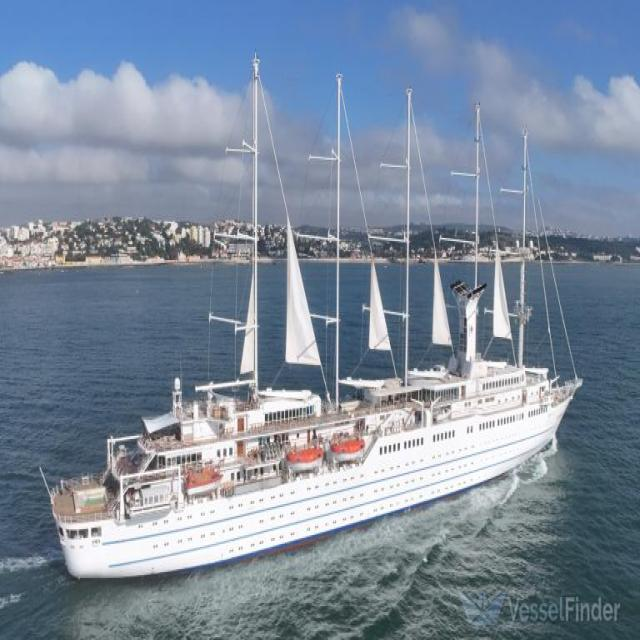PassengerShip: (27, 222, 610, 584)
